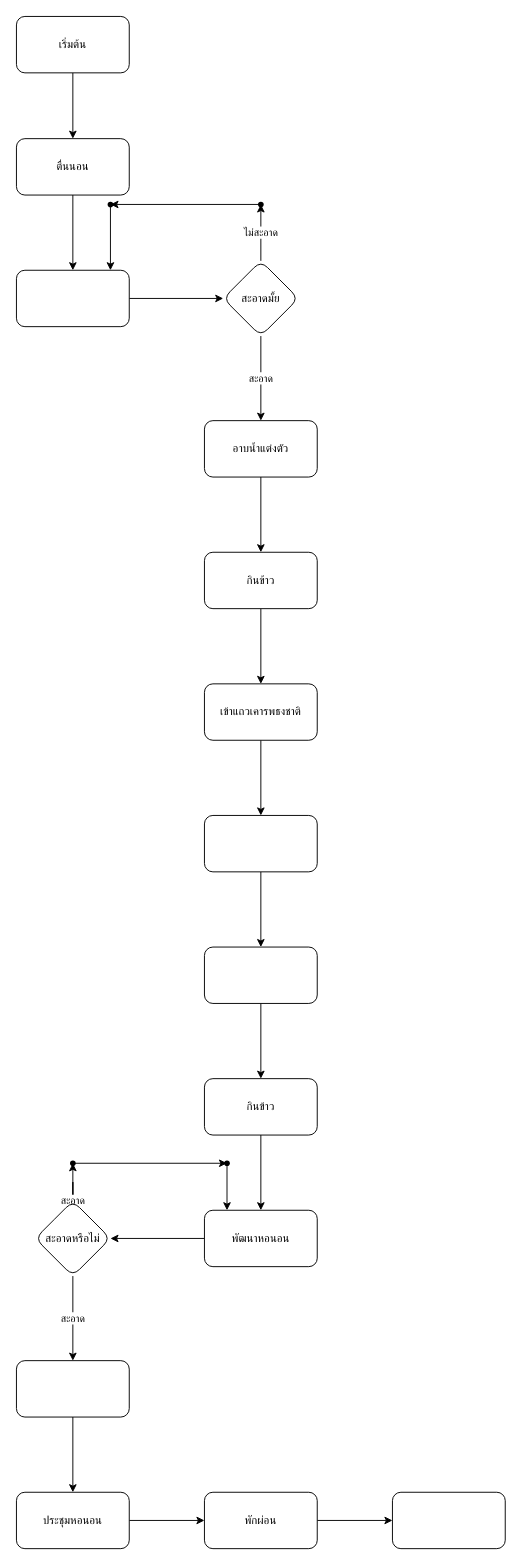
Image size: 522x1565. Some labels were removed from this diagram. The centre of each missing label's shape, as x and y in pixels:
พัฒนาส่วนกลาง: (x=72, y=298)
สิ้นสุด: (x=448, y=1520)
อาบน้ำ: (x=72, y=1388)
เข้าเรียน: (x=260, y=843)
เลิกเรียน: (x=260, y=974)
